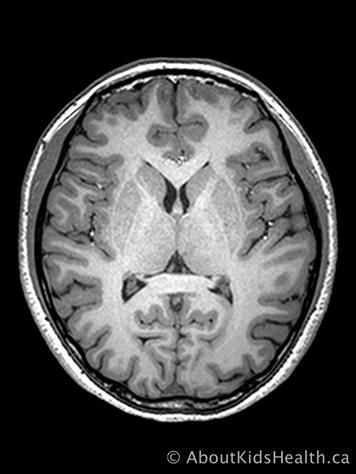Normal_Brain: (7, 3, 356, 474)
